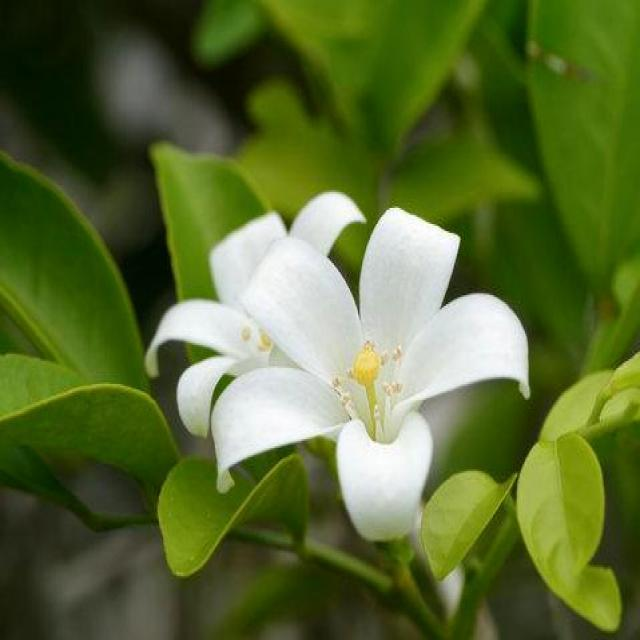Bunga: (211, 206, 533, 539), (146, 192, 368, 438)
